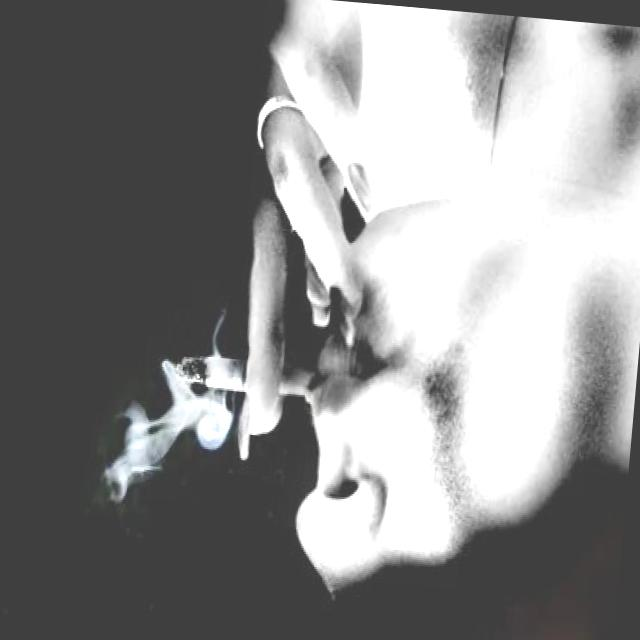smoke: (162, 341, 323, 410)
